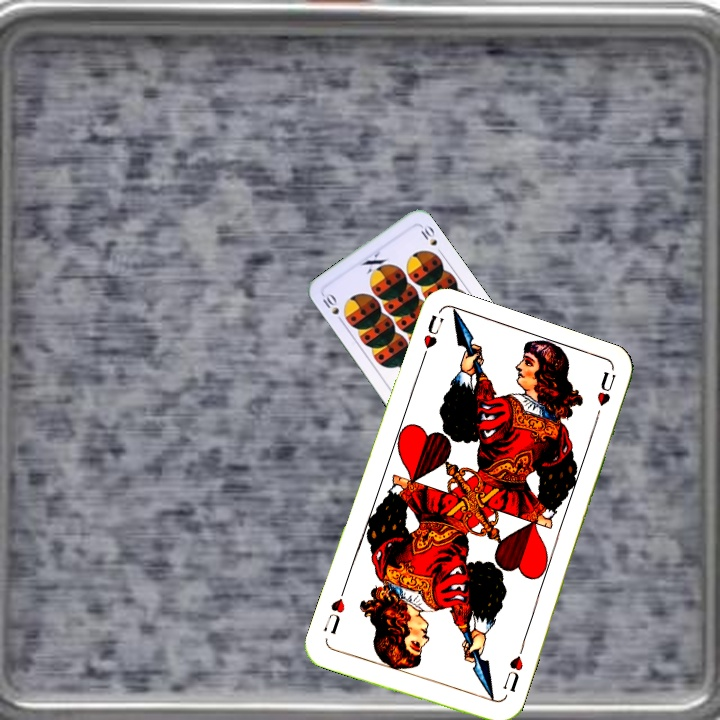HU: (416, 311, 446, 368), (499, 651, 526, 695)
S10: (318, 289, 346, 326)
